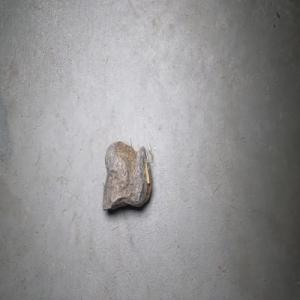Rock: (102, 138, 152, 211)
